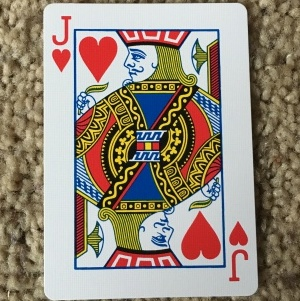card: (42, 2, 258, 299)
